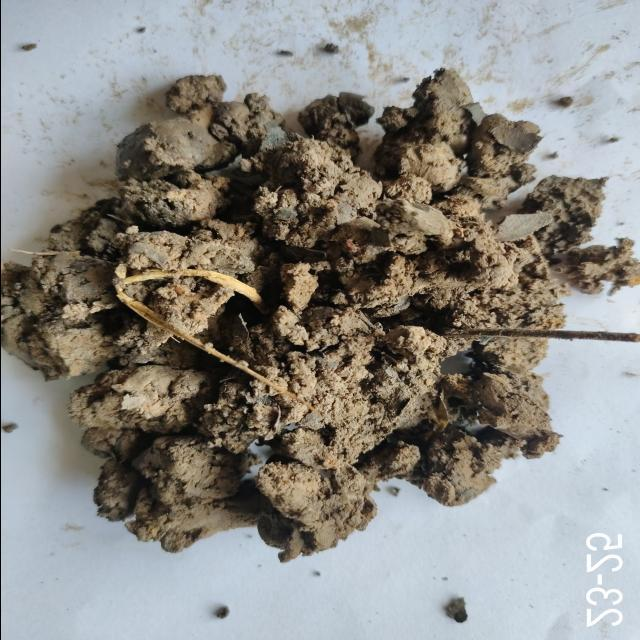soil: (143, 145, 515, 457)
